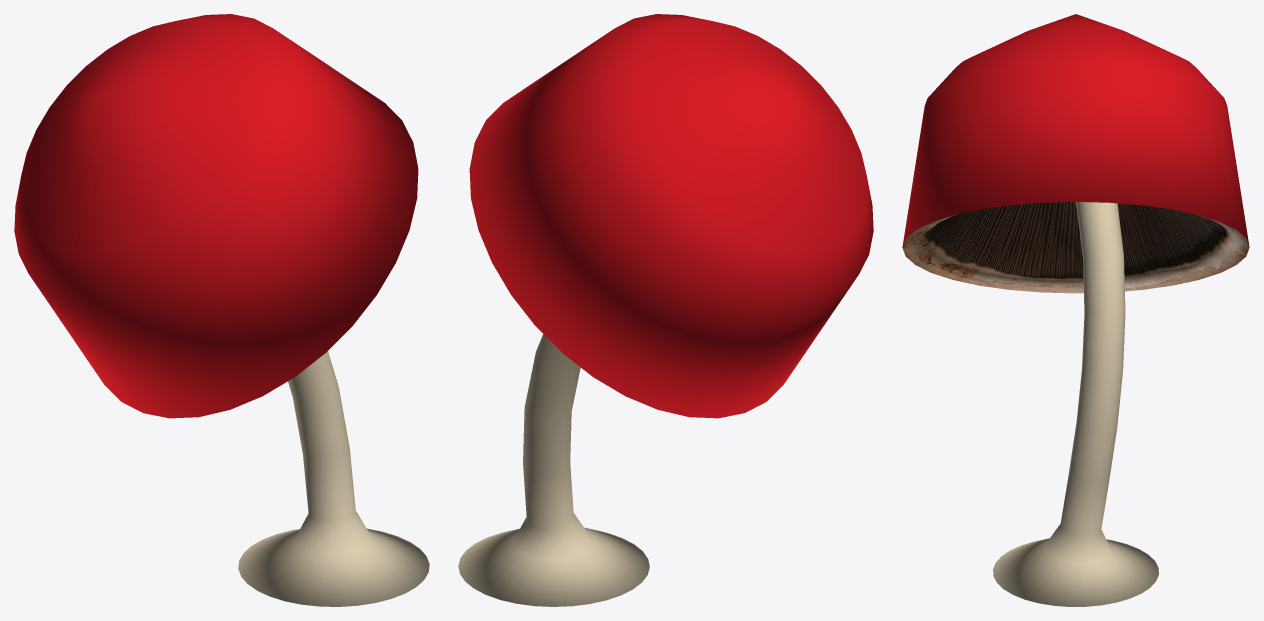
File: champi43.fbx
3 renders of one model, left to right at view 1: azimuth 30°, elevation 25°; view 2: azimuth 150°, elevation 25°; view 3: azimuth 270°, elevation 25°, orthographic. The views are drawn at different scales.
Parts seen in each view (by area): view 1: Cylinder_001; view 2: Cylinder_001; view 3: Cylinder_001.
Boxes of the visible parts, x1,y1,x2,y2 form: Cylinder_001: (14,14,429,606); Cylinder_001: (458,14,873,606); Cylinder_001: (902,14,1249,606).
Bounding box in the file's own units: 90 × 129 × 83.45.
